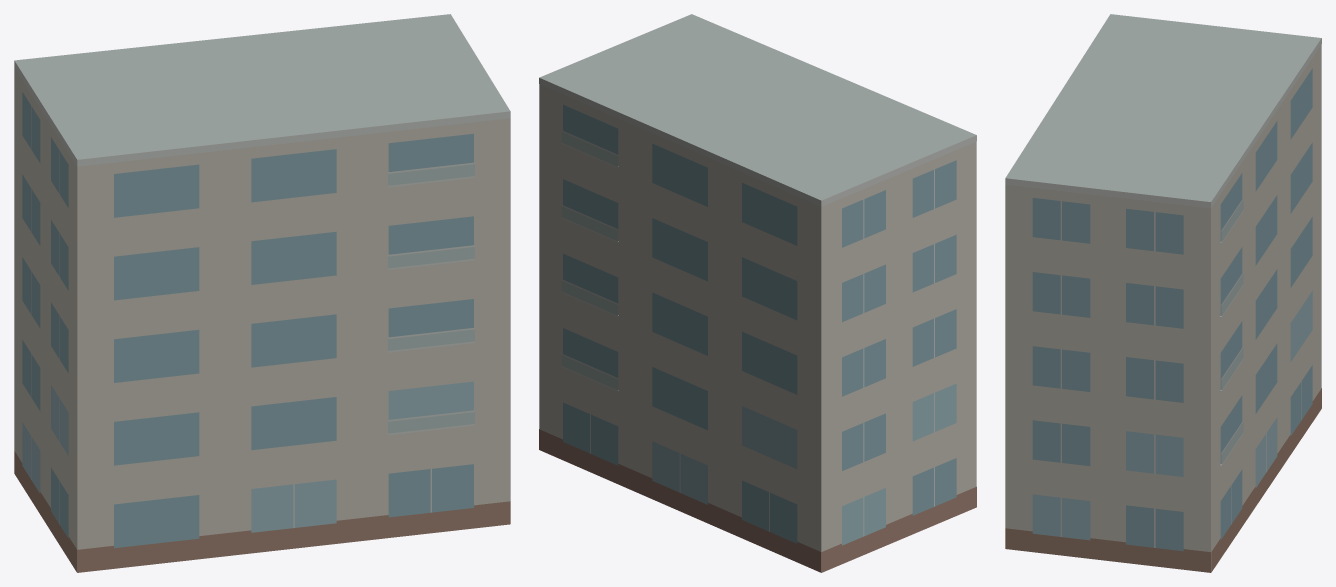
Rendered from survey-upis-32879218.glb.
3 views of the same model, side by side, from view 1: azimuth 30°, elevation 25°; view 2: azimuth 150°, elevation 25°; view 3: azimuth 270°, elevation 25° (orthographic). The views are drawn at different scales.
Parts seen in each view (by area): view 1: survey-upis-32879218.tmp; view 2: survey-upis-32879218.tmp; view 3: survey-upis-32879218.tmp.
Boxes of the visible parts, <box> form: survey-upis-32879218.tmp: <box>14,14,510,572</box>; survey-upis-32879218.tmp: <box>539,14,976,572</box>; survey-upis-32879218.tmp: <box>1005,14,1321,572</box>.
Size of the model in its own units: 15.79 by 14.5 by 11.23.
